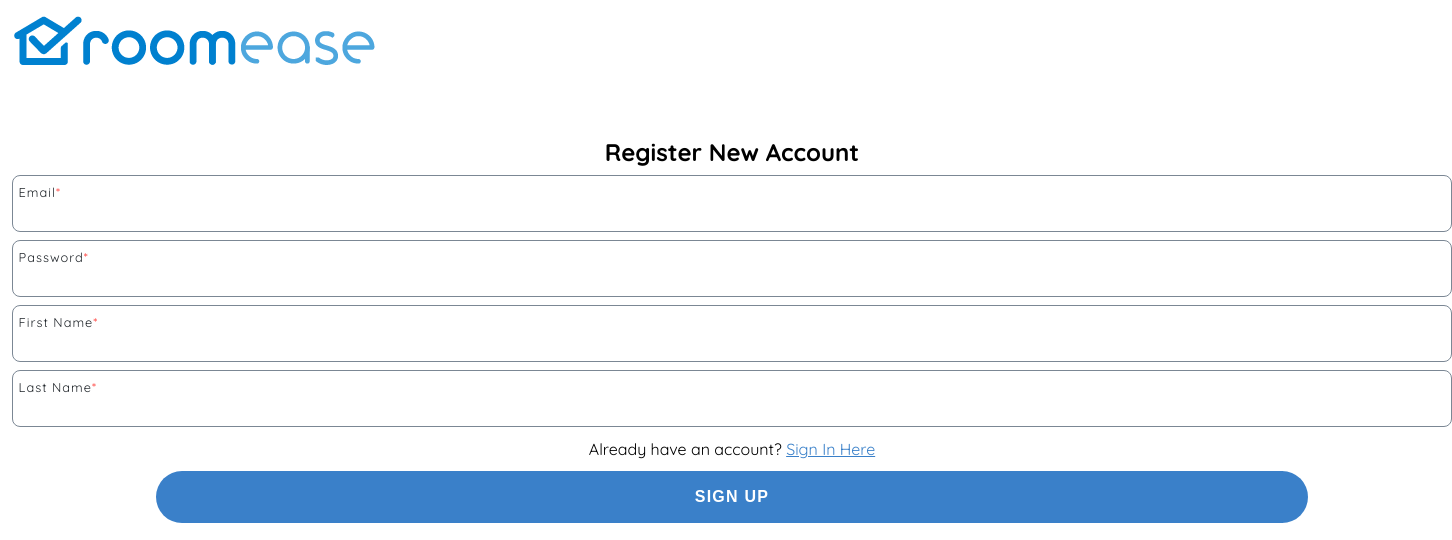
Scenario: Register Form Validation › should display error for empty first name and last name fields
Type "mrkrabs@mrkrabs.com" into the field labelled "Email*". click: (732, 213)
box: [17,200,1447,227]
Type "password" into the password field labelled "Password*". click: (732, 278)
box: [17,265,1447,292]
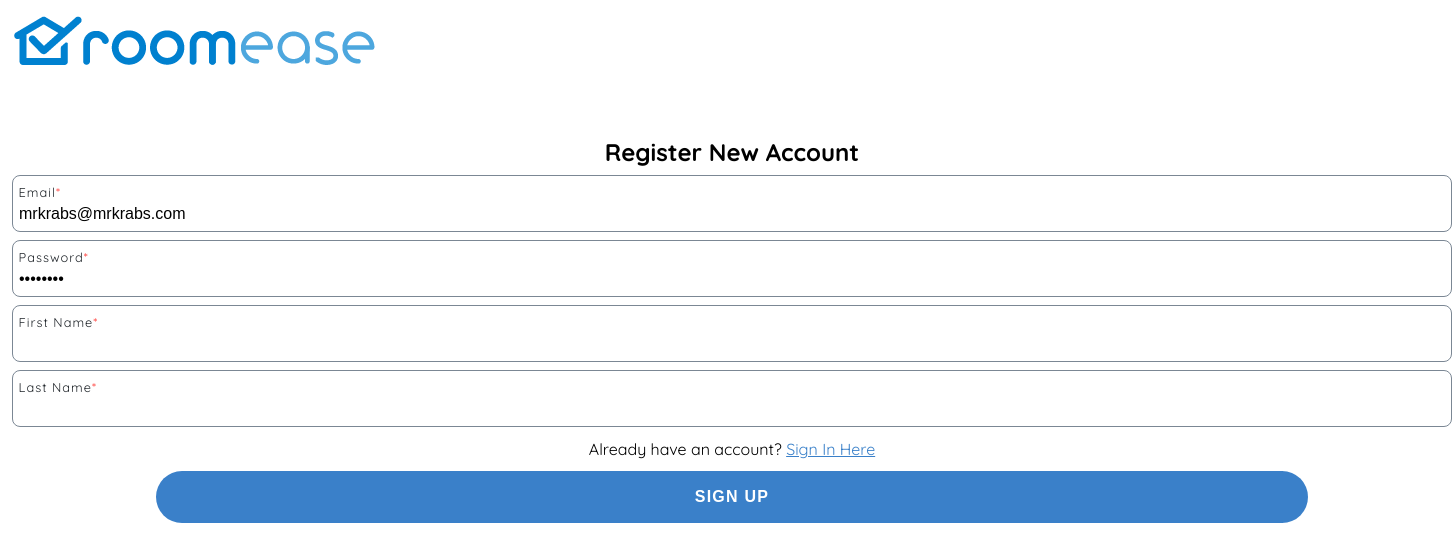
Type "Eugene" into the field labelled "First Name*". click: (732, 343)
box: [17,330,1447,357]
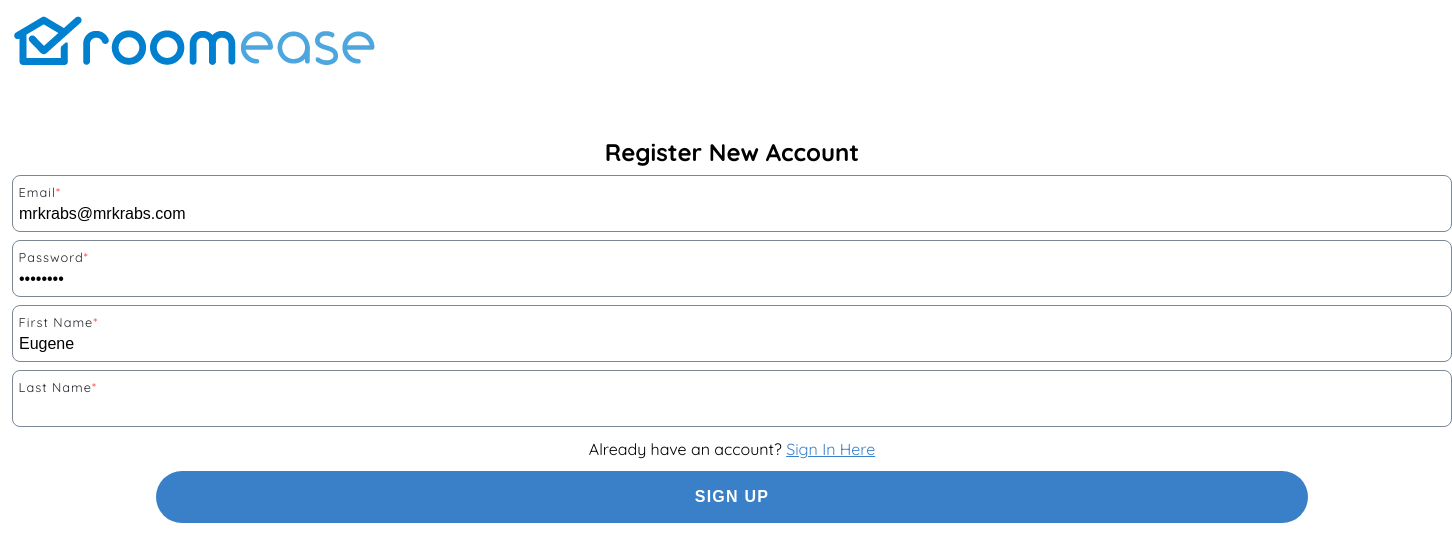
Type "Krabs" into the field labelled "Last Name*". click: (732, 408)
box: [17,395,1447,422]
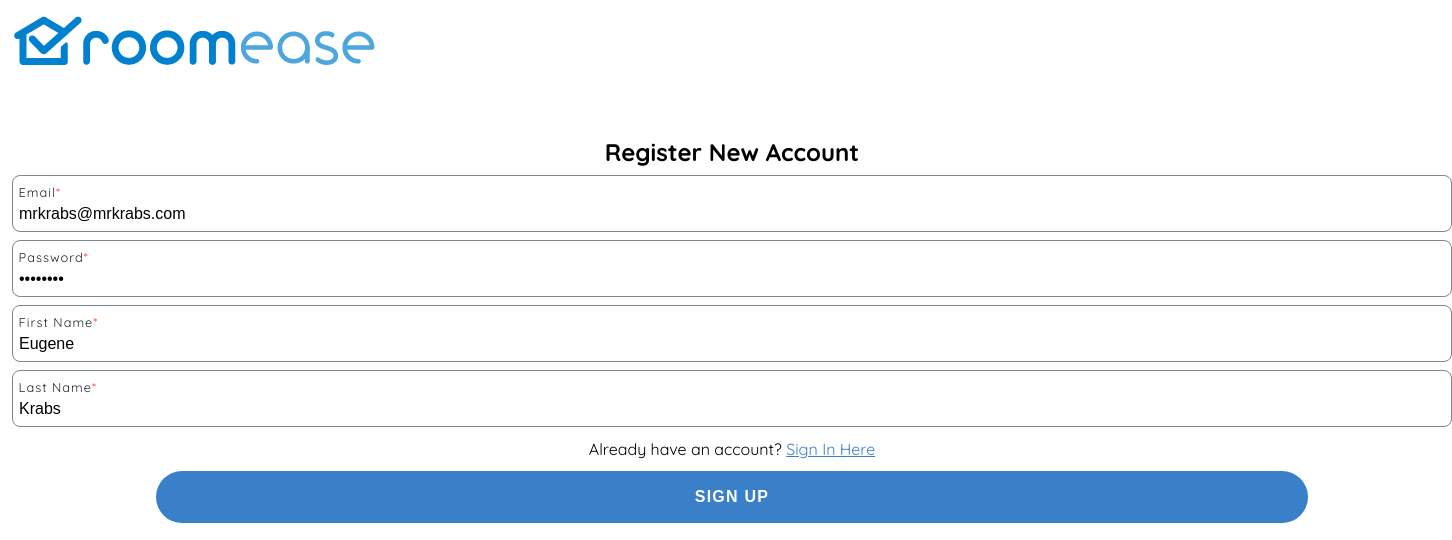
Clear the field labelled "First Name*". click: (732, 343)
box: [17,330,1447,357]
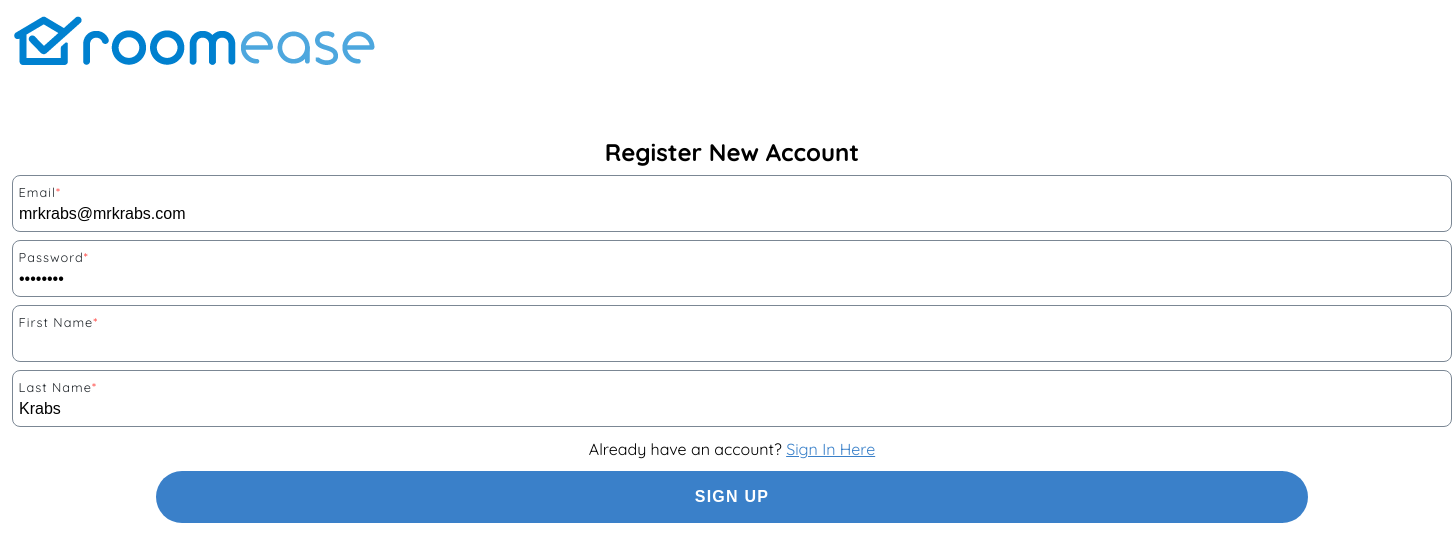
Clear the field labelled "Last Name*". click: (732, 408)
box: [17,395,1447,422]
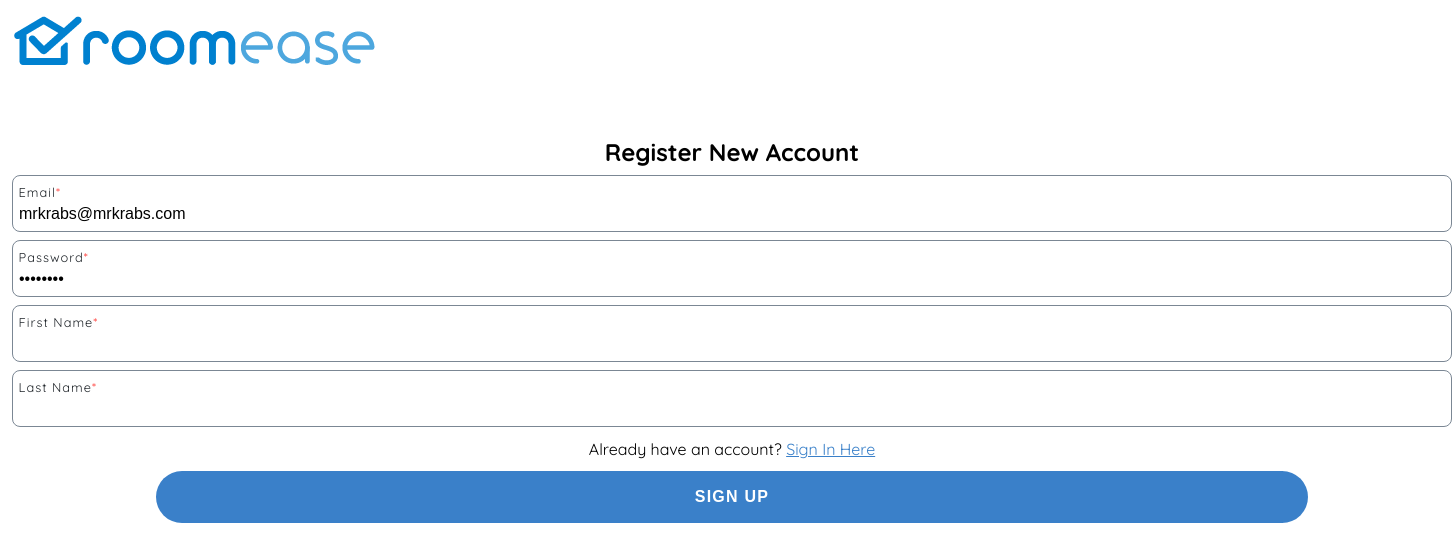
Submit the form from the button "SIGN UP", box [156,471,1308,523]
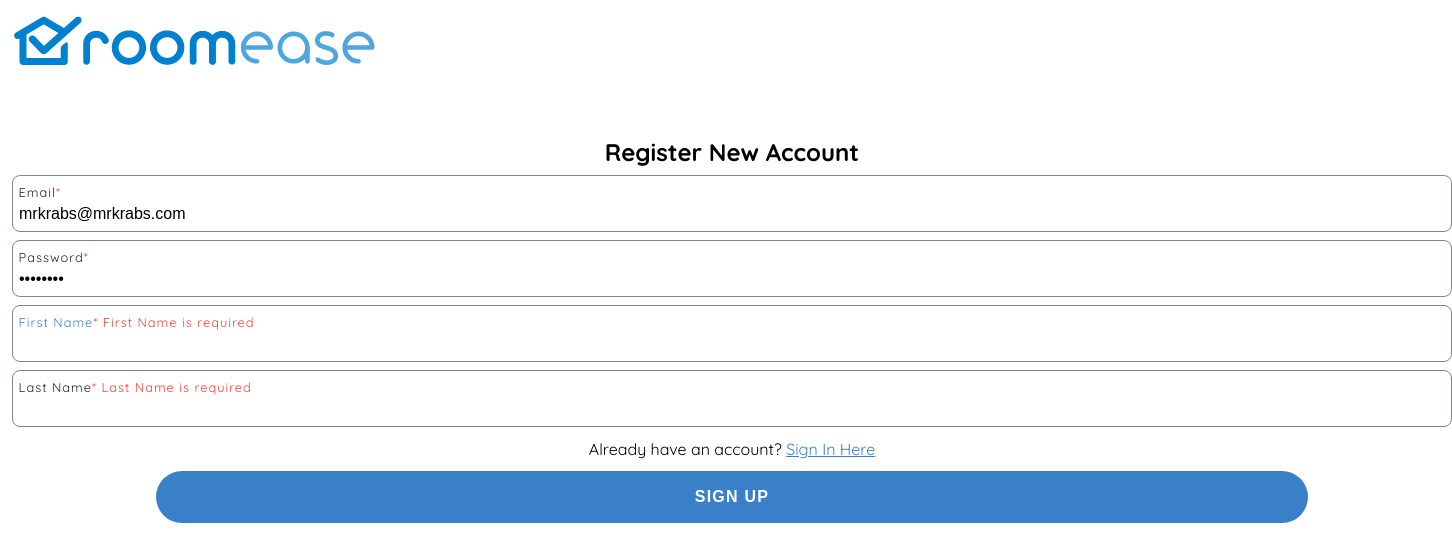
Result: the number of messages is 2 at [103,314,255,330]; [102,379,252,395]
